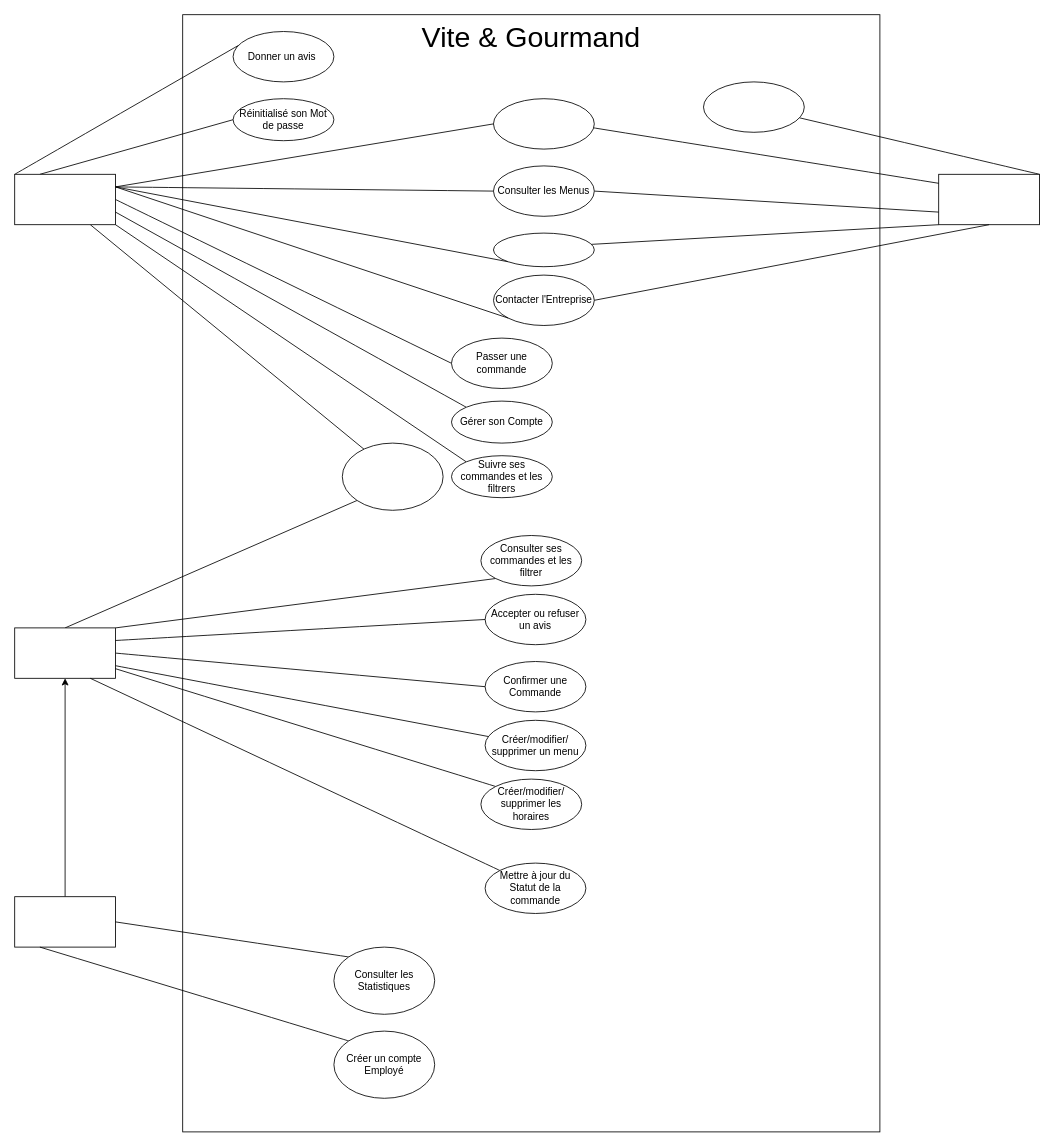
Some shapes in this 1054 by 1147 pixel diagram are drawn without their labels. Here are the shapes that lost their labels. From the top down, the box of each, then its label:
(493, 98, 594, 149): Consulter la Page d'Accueil
(703, 81, 804, 132): S'inscrire
(14, 173, 116, 225): Utilisateur
(938, 173, 1040, 225): Visiteur
(493, 232, 594, 267): Filtrer les Menus
(341, 442, 443, 510): Se connecter
(14, 627, 116, 678): Employé
(14, 896, 116, 947): Admin
